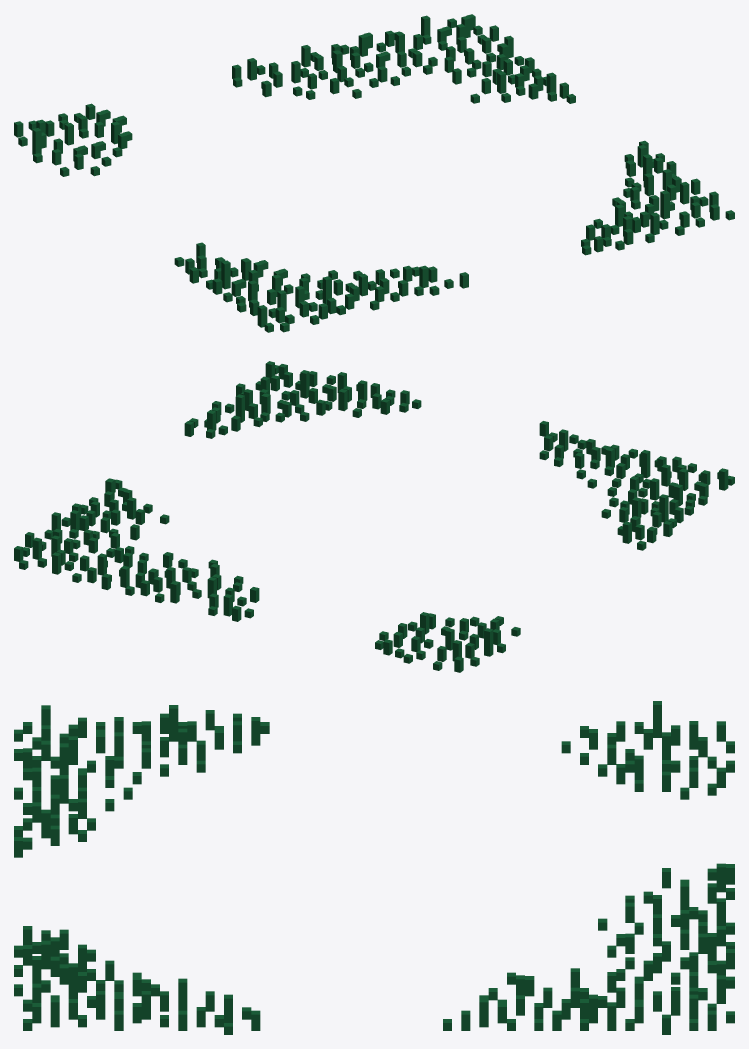
Rendered from grass_3_overtile.glb.
3 views of the same model, one above another, from view 1: azimuth 30°, elevation 25°; view 2: azimuth 150°, elevation 25°; view 3: azimuth 270°, elevation 25° (orthographic). The views are drawn at different scales.
Parts seen in each view (by area): view 1: grass_3_overtile; view 2: grass_3_overtile; view 3: grass_3_overtile.
Part boxes in pixels (x1,y1,x2,y2): grass_3_overtile: (14,14,734,332); grass_3_overtile: (14,361,734,672); grass_3_overtile: (14,701,734,1034).
Size of the model in its own units: 8 by 0.4 by 7.9.
Materials: 1 (1 with a texture image).
